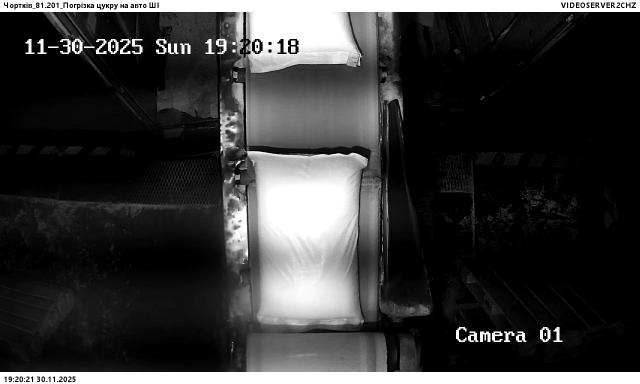bag: (248, 151, 369, 329), (251, 13, 362, 74)
